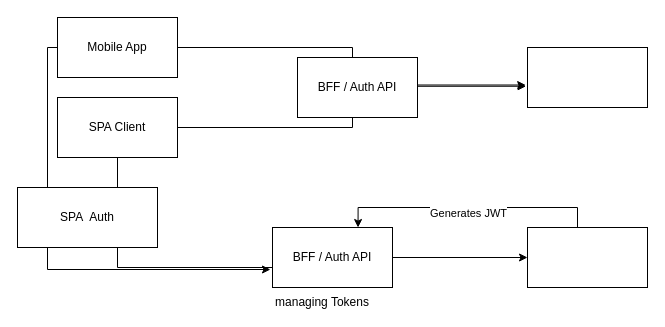
This 665x327 diagram has some shape labels left out. The shapes that lost their labels are listed below. From the top down, each one's box as (x1, y1, x2, y2) in pixels, then its label:
(526, 46, 648, 108): Api
(526, 226, 648, 288): Identity Server
